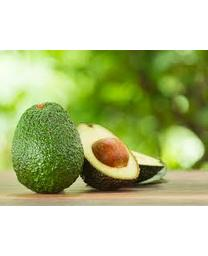avocado: (10, 101, 84, 194), (73, 123, 141, 190)
